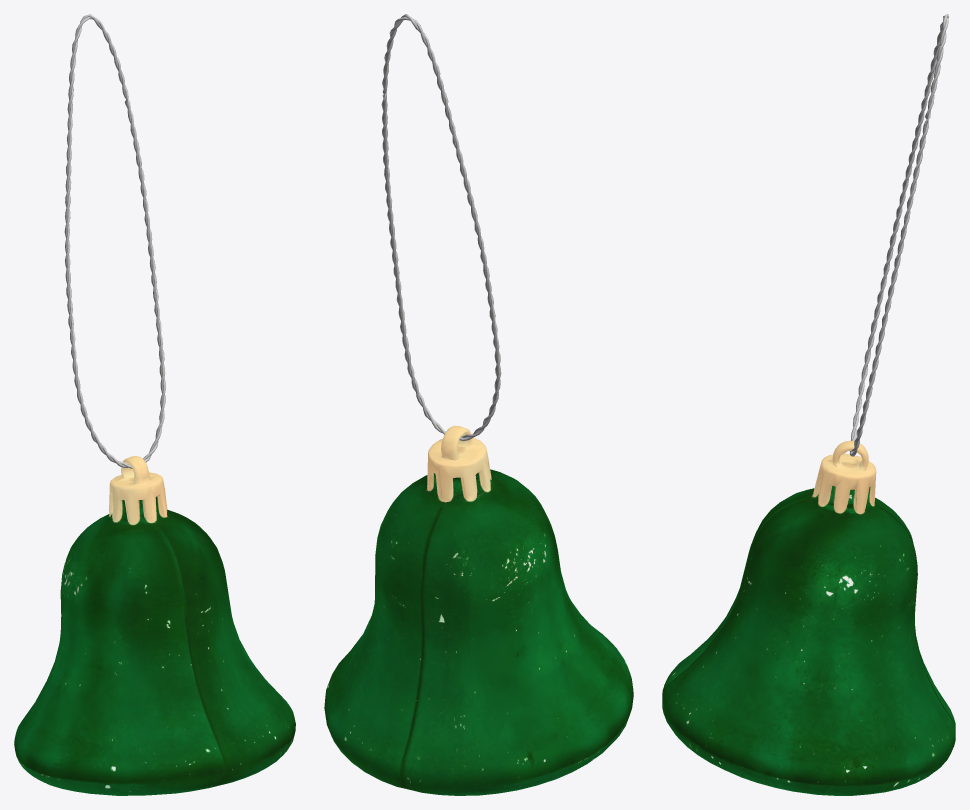
The model's file is Emerald_Bell.glb.
The picture shows the model from 3 angles, left to right: view 1: azimuth 30°, elevation 25°; view 2: azimuth 150°, elevation 25°; view 3: azimuth 270°, elevation 25°; orthographic projection. The views are drawn at different scales.
Visible parts, largest first — view 1: Mesh1.0, GN Instance; view 2: Mesh1.0, GN Instance; view 3: Mesh1.0, GN Instance.
Boxes of the visible parts, x1=… form: Mesh1.0: x1=14, y1=456, x2=295, y2=795; GN Instance: x1=64, y1=14, x2=165, y2=468; Mesh1.0: x1=324, y1=425, x2=633, y2=795; GN Instance: x1=381, y1=14, x2=501, y2=441; Mesh1.0: x1=662, y1=440, x2=955, y2=795; GN Instance: x1=849, y1=14, x2=948, y2=456.
Bounding box in the file's own units: 0.0577 × 0.1612 × 0.0572.
2 materials, 1 textured.
